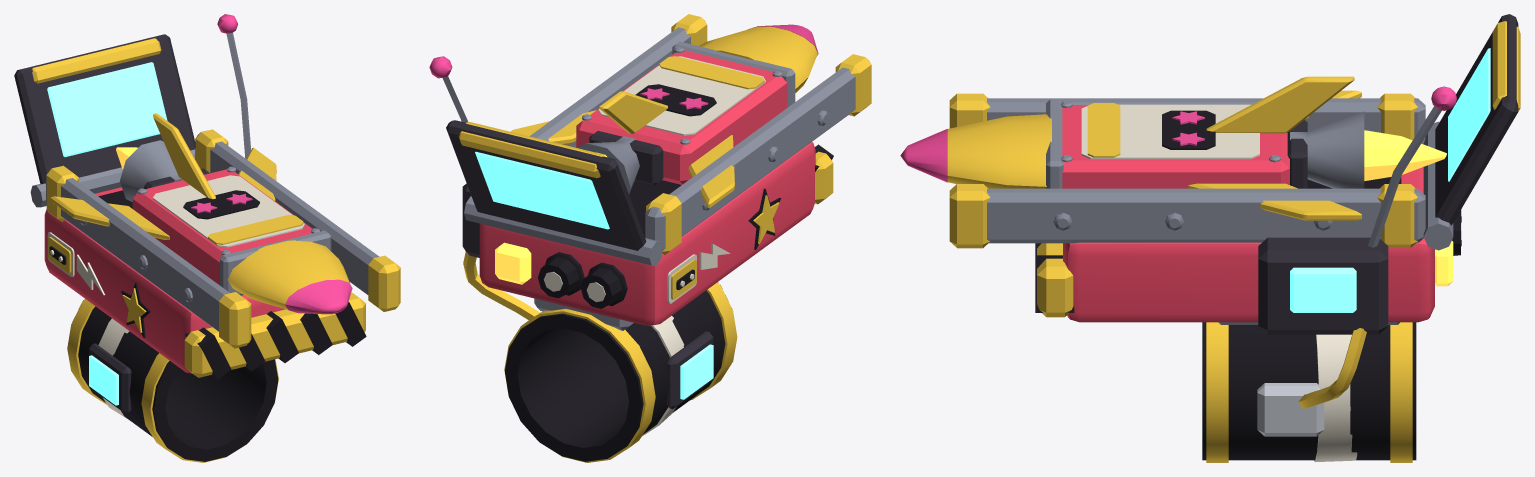
File: mixtape_rocket.glb
The picture shows the model from 3 angles, left to right: view 1: azimuth 30°, elevation 25°; view 2: azimuth 150°, elevation 25°; view 3: azimuth 270°, elevation 25°; orthographic projection. The views are drawn at different scales.
Parts seen in each view (by area): view 1: Weapon, Round; view 2: Weapon, Round; view 3: Weapon, Round.
Part boxes in pixels (bbox=[...]): Weapon: bbox=[14, 14, 400, 462]; Round: bbox=[50, 113, 352, 314]; Weapon: bbox=[429, 14, 871, 462]; Round: bbox=[510, 24, 818, 208]; Weapon: bbox=[949, 14, 1520, 462]; Round: bbox=[900, 76, 1446, 220].
Size of the model in its own units: 0.1762 by 0.2567 by 0.3338.
